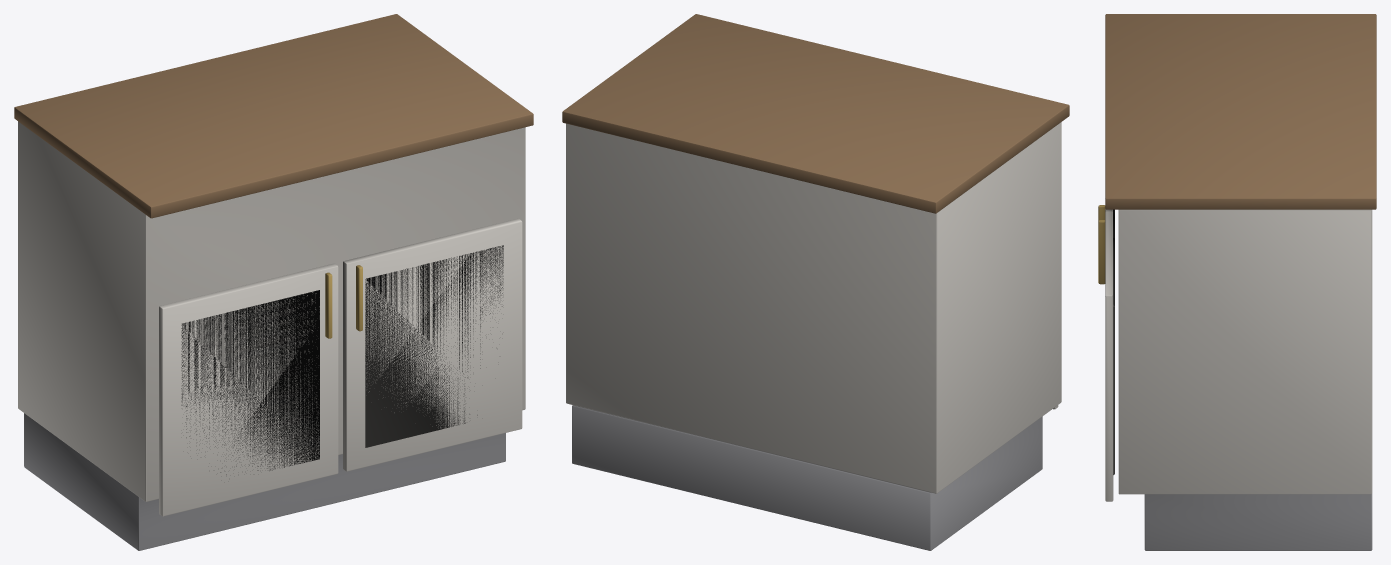
The model's file is kitchen_run_1m.glb.
The picture shows the model from 3 angles, left to right: view 1: azimuth 30°, elevation 25°; view 2: azimuth 150°, elevation 25°; view 3: azimuth 270°, elevation 25°; orthographic projection. The views are drawn at different scales.
Parts seen in each view (by area): view 1: kitchen_run_1m; view 2: kitchen_run_1m; view 3: kitchen_run_1m.
Boxes of the visible parts, x1,y1,x2,y2 form: kitchen_run_1m: (14,14,533,550); kitchen_run_1m: (562,14,1069,550); kitchen_run_1m: (1098,14,1376,550).
Size of the model in its own units: 1 by 0.9 by 0.636.
